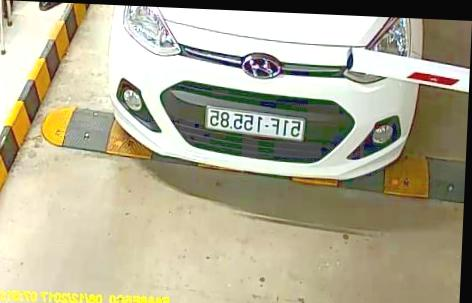License_Plate: (199, 105, 310, 146)
